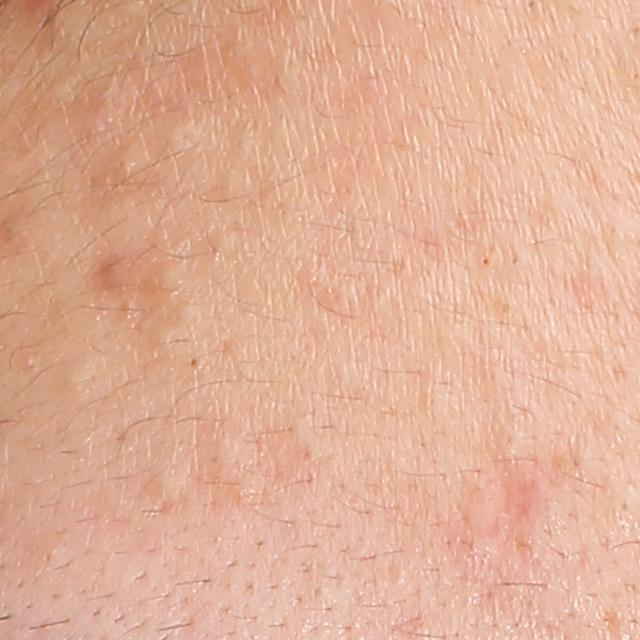comedo: (449, 475, 518, 543), (92, 141, 152, 207), (47, 353, 98, 409), (139, 252, 188, 310), (143, 467, 187, 517), (138, 317, 189, 352), (224, 122, 260, 169), (153, 116, 193, 155), (186, 354, 207, 379)
